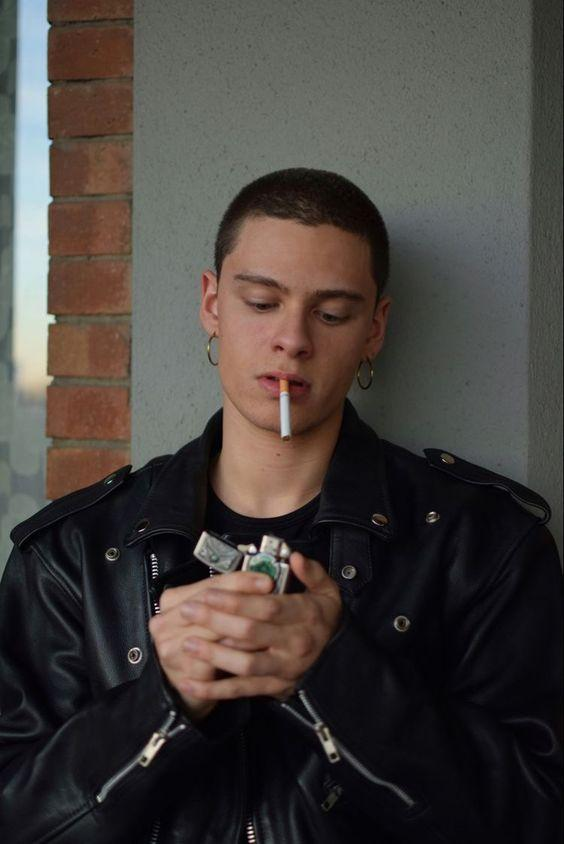cigarette: (280, 378, 290, 442)
